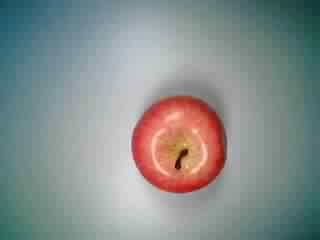apple: (126, 92, 232, 196)
